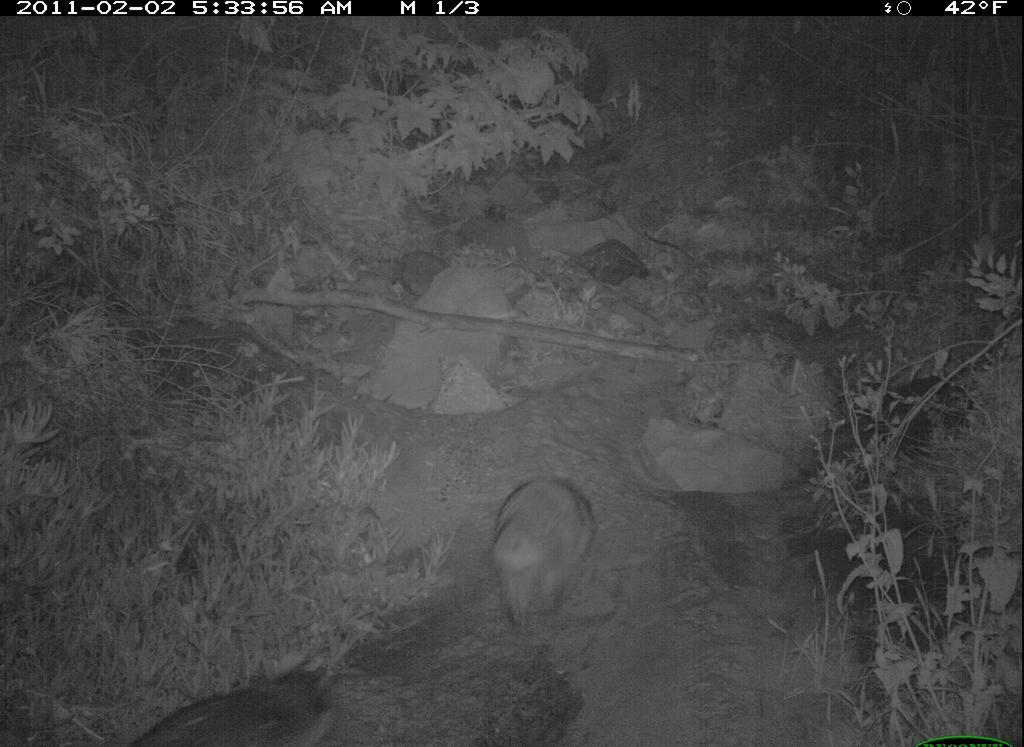raccoon: (121, 648, 372, 745), (482, 468, 606, 642)
